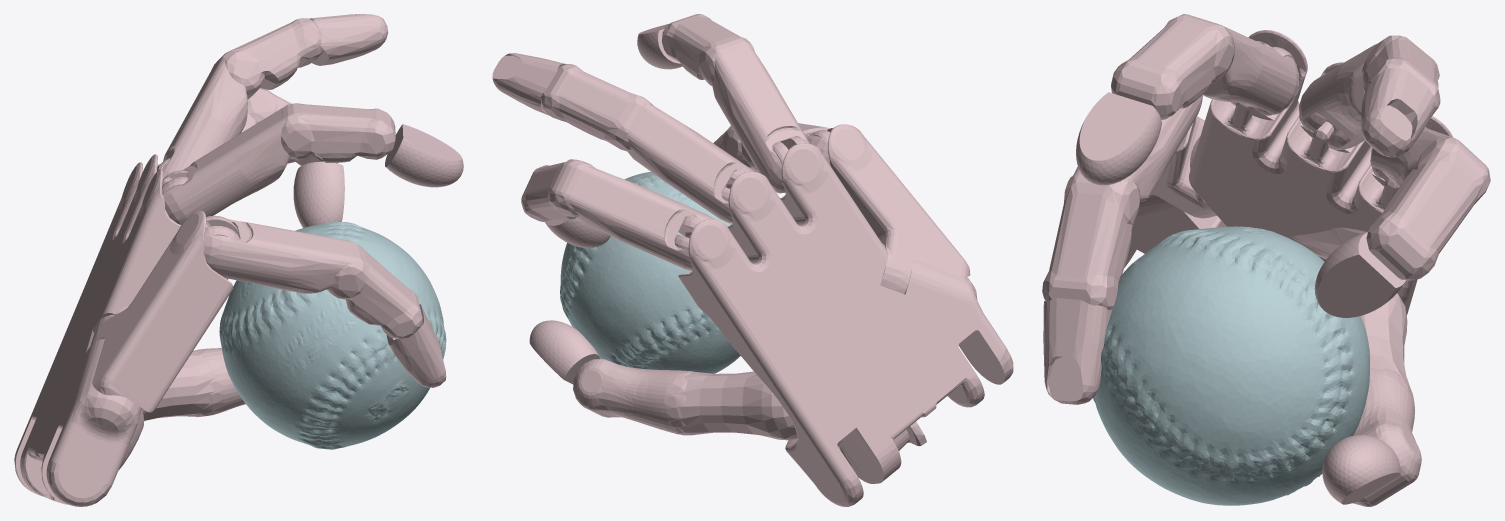
The model's file is grasp_5.glb.
The picture shows the model from 3 angles, left to right: view 1: azimuth 30°, elevation 25°; view 2: azimuth 150°, elevation 25°; view 3: azimuth 270°, elevation 25°; orthographic projection. The views are drawn at different scales.
Visible parts, largest first — view 1: world; view 2: world; view 3: world.
Boxes of the visible parts, box(x1,y1,x2,y2) form: world: box(14, 14, 463, 506); world: box(492, 14, 1013, 506); world: box(1042, 14, 1490, 506).
Bounding box in the file's own units: 0.1642 × 0.1445 × 0.1158.
